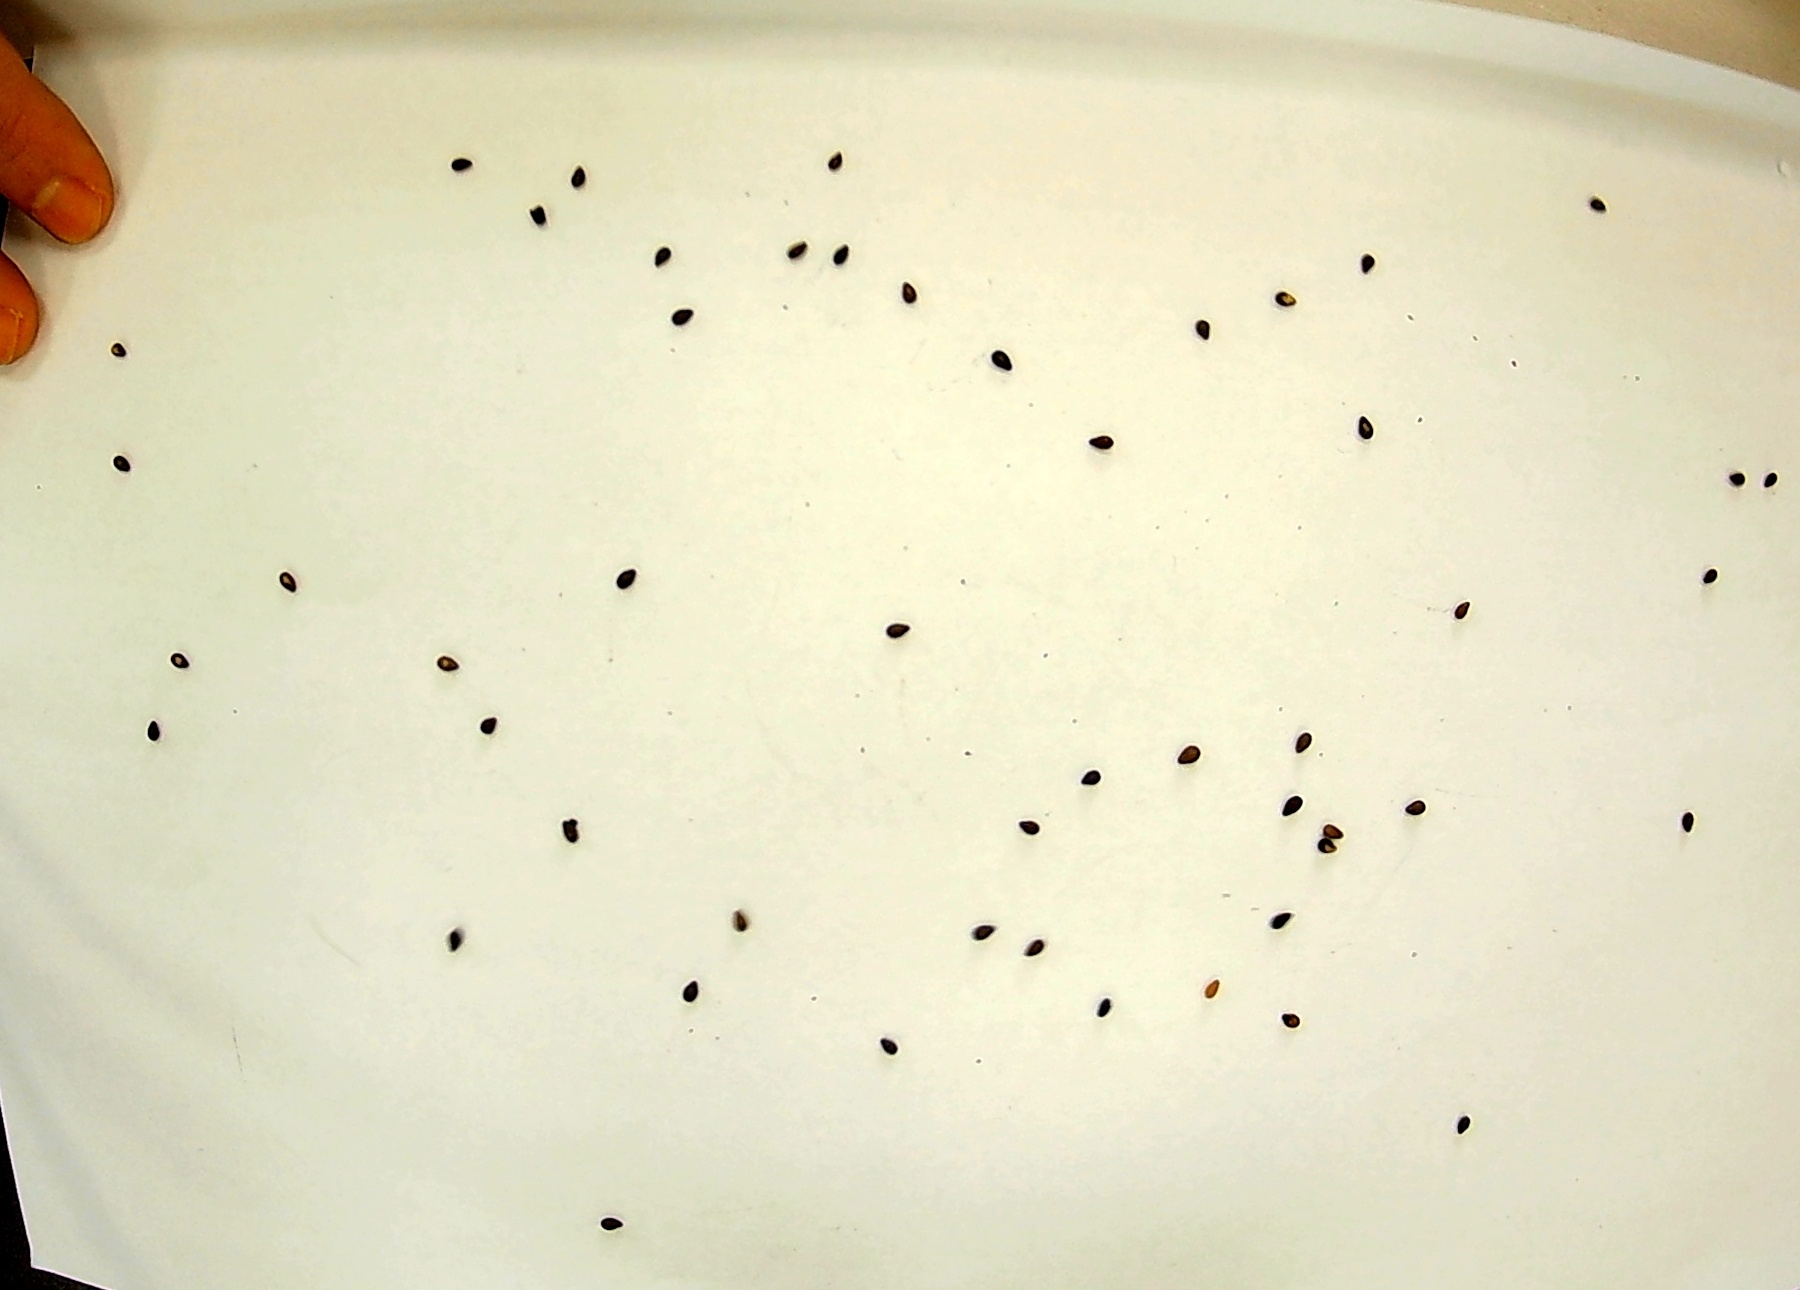sesami: (441, 142, 474, 184), (92, 318, 126, 360), (130, 697, 163, 739), (434, 641, 467, 683), (467, 704, 501, 746), (610, 549, 643, 591), (557, 806, 590, 847), (721, 900, 755, 942), (1020, 937, 1053, 979), (1323, 833, 1356, 875), (1397, 792, 1430, 833), (1450, 581, 1483, 623), (518, 194, 551, 235), (635, 230, 668, 271), (668, 288, 702, 328), (784, 242, 818, 282), (809, 141, 843, 181), (265, 564, 299, 605), (155, 646, 188, 687), (430, 923, 463, 963), (670, 973, 703, 1014), (880, 1037, 914, 1078), (1168, 733, 1201, 773), (1273, 780, 1306, 821), (1193, 969, 1227, 1009), (1081, 993, 1115, 1033), (1268, 1000, 1302, 1040), (1760, 451, 1793, 491), (1584, 169, 1617, 209), (1355, 408, 1388, 448), (1281, 276, 1314, 317), (1091, 419, 1125, 459), (991, 339, 1024, 380), (904, 274, 938, 314), (882, 605, 915, 645), (567, 161, 599, 202), (830, 239, 862, 281), (93, 447, 126, 489), (587, 1203, 620, 1245), (1310, 792, 1342, 833), (1674, 806, 1707, 847), (1730, 452, 1762, 494), (1347, 244, 1379, 286), (959, 905, 991, 945), (1019, 808, 1051, 849), (1081, 772, 1113, 813), (1289, 708, 1321, 748), (1266, 895, 1298, 935), (1455, 1100, 1487, 1141), (1695, 554, 1727, 595), (1180, 307, 1213, 348)
